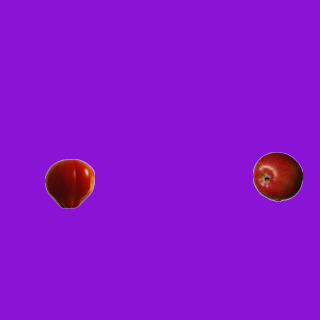Apple Braeburn: (252, 151, 302, 201)
Tomato 1: (44, 158, 94, 208)
